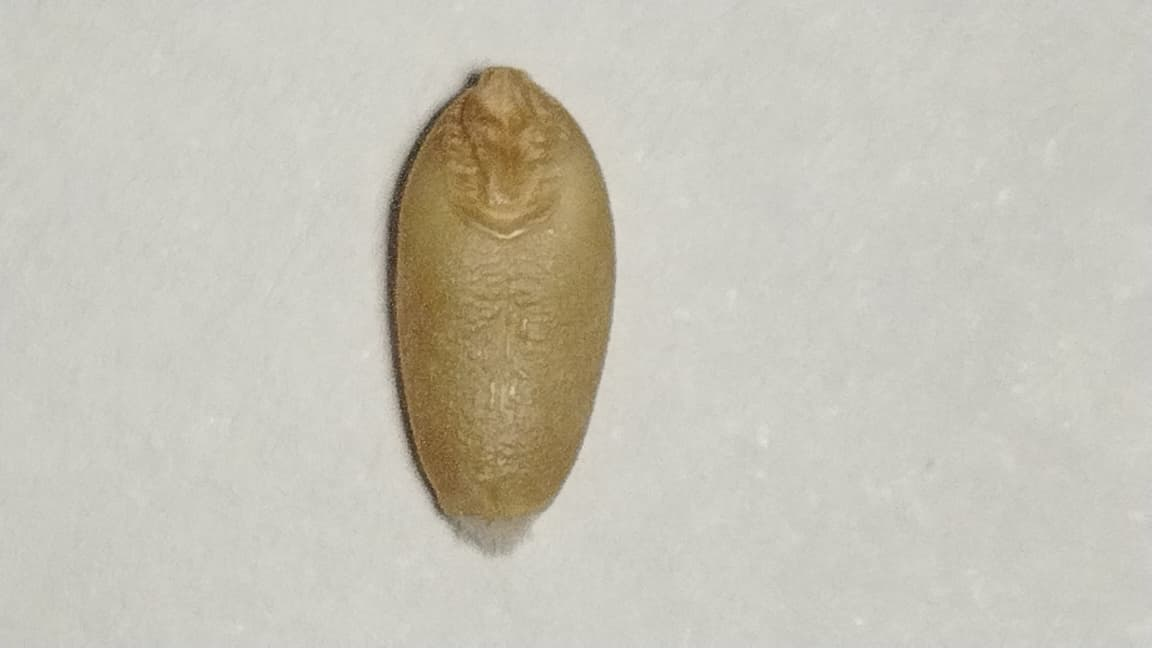healthy: (394, 67, 615, 533)
